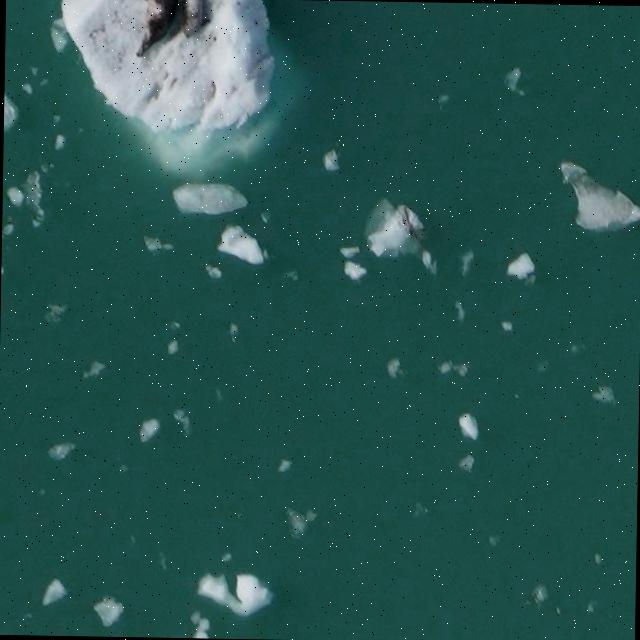seal: (137, 0, 178, 57), (181, 0, 212, 37)
